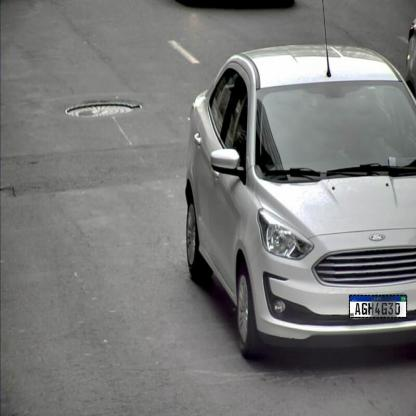PlacaM: (349, 295, 407, 318)
